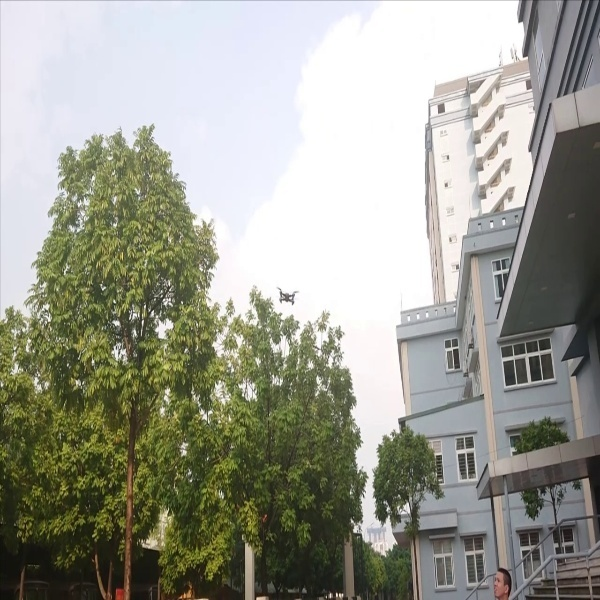drone: (270, 279, 301, 308)
